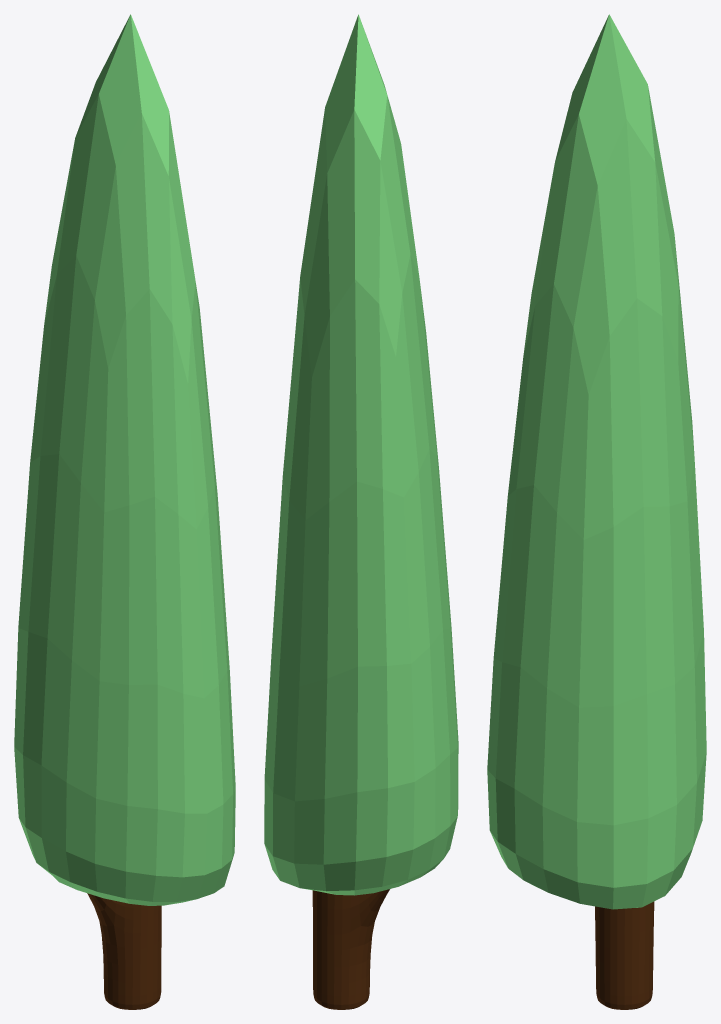
File: Tree_03.fbx
3 renders of one model, left to right at view 1: azimuth 30°, elevation 25°; view 2: azimuth 150°, elevation 25°; view 3: azimuth 270°, elevation 25°, orthographic.
Visible parts, largest first — view 1: Tree.002; view 2: Tree.002; view 3: Tree.002.
Boxes of the visible parts, box(x1,y1,x2,y2) form: Tree.002: box(14, 14, 235, 1009); Tree.002: box(264, 14, 458, 1009); Tree.002: box(487, 14, 706, 1009).
Bounding box in the file's own units: 168 × 896 × 182.
